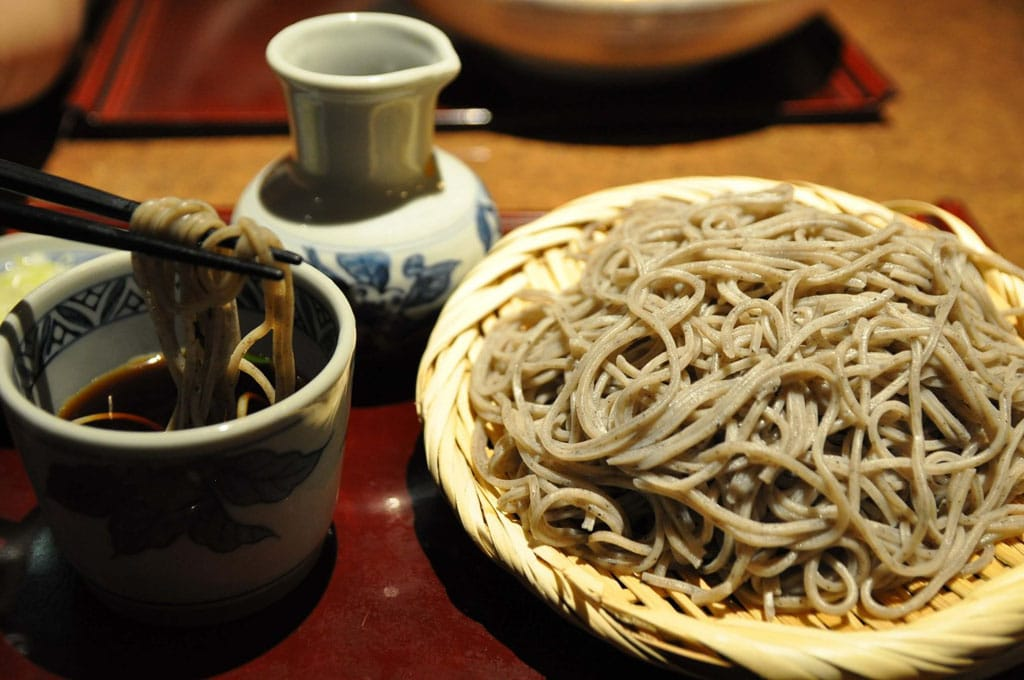Soba: (475, 204, 1024, 608), (117, 188, 317, 430)
